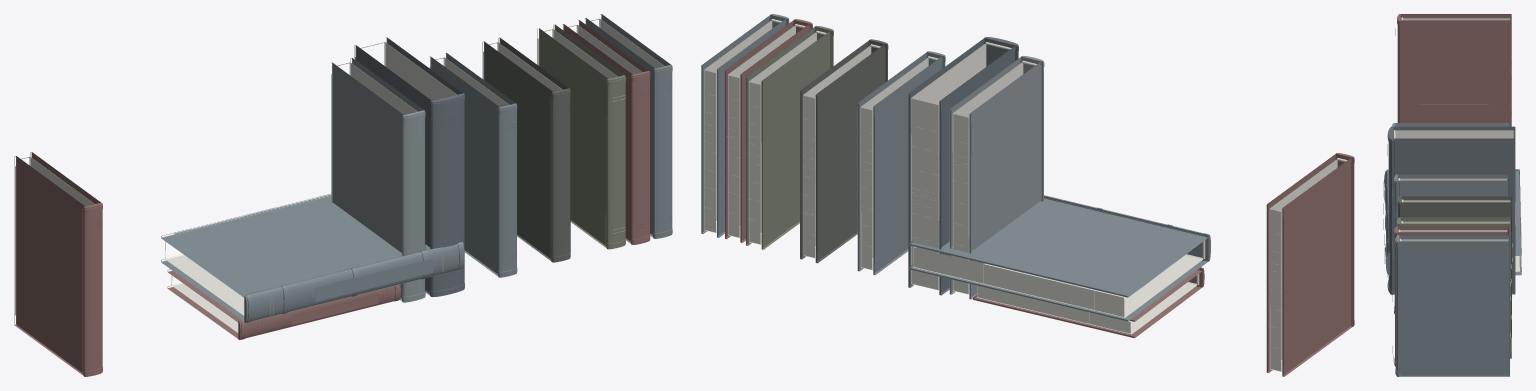
Rendered from X14_LRS1953_BOOKS_S00_bk0.glb.
3 views of the same model, side by side, from view 1: azimuth 30°, elevation 25°; view 2: azimuth 150°, elevation 25°; view 3: azimuth 270°, elevation 25° (orthographic). The views are drawn at different scales.
Parts seen in each view (by area): view 1: S04_LAW_SERIES_A_S04_LAW_SERIES_B05_book_04_cover_-1, S04_LAW_SERIES_A_S04_LAW_SERIES_B03_book_03_cover_-1, S04_LAW_SERIES_A_S04_LAW_SERIES_B07_book_01_cover_-1, S04_LAW_SERIES_A_S04_LAW_SERIES_B14_book_03_cover_-1, S04_LAW_SERIES_A_S04_LAW_SERIES_B12_book_03_cover_-1, S04_LAW_SERIES_A_S04_LAW_SERIES_B10_book_03_cover_-1, S04_LAW_SERIES_A_S04_LAW_SERIES_B05_book_04_spine, S04_LAW_SERIES_A_S04_LAW_SERIES_B08_book_05_spine, S04_LAW_SERIES_A_S04_LAW_SERIES_B07_book_01_spine, S04_LAW_SERIES_A_S04_LAW_SERIES_B16_book_03_spine, S04_LAW_SERIES_A_S04_LAW_SERIES_B12_book_03_spine, S04_LAW_SERIES_A_S04_LAW_SERIES_B14_book_03_spine (+28 smaller); view 2: S04_LAW_SERIES_A_S04_LAW_SERIES_B05_book_04_cover_-1, S04_LAW_SERIES_A_S04_LAW_SERIES_B03_book_03_cover_-1, S04_LAW_SERIES_A_S04_LAW_SERIES_B07_book_01_cover_-1, S04_LAW_SERIES_A_S04_LAW_SERIES_B12_book_03_cover_-1, S04_LAW_SERIES_A_S04_LAW_SERIES_B14_book_03_cover_-1, S04_LAW_SERIES_A_S04_LAW_SERIES_B10_book_03_cover_-1, S04_LAW_SERIES_A_S04_LAW_SERIES_B08_book_05_pages, S04_LAW_SERIES_A_S04_LAW_SERIES_B05_book_04_pages, S04_LAW_SERIES_A_S04_LAW_SERIES_B07_book_01_pages, S04_LAW_SERIES_A_S04_LAW_SERIES_B03_book_03_pages, S04_LAW_SERIES_A_S04_LAW_SERIES_B10_book_03_pages, S04_LAW_SERIES_A_S04_LAW_SERIES_B08_book_05_cover_-1 (+19 smaller); view 3: S04_LAW_SERIES_A_S04_LAW_SERIES_B16_book_03_cover_1, S04_LAW_SERIES_A_S04_LAW_SERIES_B03_book_03_cover_1, S04_LAW_SERIES_A_S04_LAW_SERIES_B08_book_05_cover_1, S04_LAW_SERIES_A_S04_LAW_SERIES_B03_book_03_TITLE_SURFACE_FA, S04_LAW_SERIES_A_S04_LAW_SERIES_B16_book_03_TITLE_SURFACE_FA, S04_LAW_SERIES_A_S04_LAW_SERIES_B10_book_03_cover_1, S04_LAW_SERIES_A_S04_LAW_SERIES_B12_book_03_cover_1, S04_LAW_SERIES_A_S04_LAW_SERIES_B08_book_05_pages, S04_LAW_SERIES_A_S04_LAW_SERIES_B08_book_05_spine, S04_LAW_SERIES_A_S04_LAW_SERIES_B14_book_03_cover_1, S04_LAW_SERIES_A_S04_LAW_SERIES_B08_book_05_cover_-1, S04_LAW_SERIES_A_S04_LAW_SERIES_B14_book_03_cover_-1 (+25 smaller).
Part boxes in pixels (box(x1,y1,x2,y2)): S04_LAW_SERIES_A_S04_LAW_SERIES_B05_book_04_cover_-1: box(161, 194, 430, 297); S04_LAW_SERIES_A_S04_LAW_SERIES_B03_book_03_cover_-1: box(14, 156, 85, 375); S04_LAW_SERIES_A_S04_LAW_SERIES_B07_book_01_cover_-1: box(332, 62, 403, 301); S04_LAW_SERIES_A_S04_LAW_SERIES_B14_book_03_cover_-1: box(537, 28, 608, 247); S04_LAW_SERIES_A_S04_LAW_SERIES_B12_book_03_cover_-1: box(482, 41, 552, 261); S04_LAW_SERIES_A_S04_LAW_SERIES_B10_book_03_cover_-1: box(430, 56, 499, 276); S04_LAW_SERIES_A_S04_LAW_SERIES_B05_book_04_spine: box(244, 242, 464, 322); S04_LAW_SERIES_A_S04_LAW_SERIES_B08_book_05_spine: box(430, 93, 464, 296); S04_LAW_SERIES_A_S04_LAW_SERIES_B07_book_01_spine: box(402, 110, 424, 302); S04_LAW_SERIES_A_S04_LAW_SERIES_B16_book_03_spine: box(653, 64, 672, 238); S04_LAW_SERIES_A_S04_LAW_SERIES_B12_book_03_spine: box(551, 88, 570, 262); S04_LAW_SERIES_A_S04_LAW_SERIES_B14_book_03_spine: box(606, 75, 625, 249); S04_LAW_SERIES_A_S04_LAW_SERIES_B05_book_04_cover_-1: box(909, 198, 1207, 297); S04_LAW_SERIES_A_S04_LAW_SERIES_B03_book_03_cover_-1: box(1282, 158, 1352, 376); S04_LAW_SERIES_A_S04_LAW_SERIES_B07_book_01_cover_-1: box(969, 62, 1040, 299); S04_LAW_SERIES_A_S04_LAW_SERIES_B12_book_03_cover_-1: box(815, 44, 887, 263); S04_LAW_SERIES_A_S04_LAW_SERIES_B14_book_03_cover_-1: box(761, 31, 830, 249); S04_LAW_SERIES_A_S04_LAW_SERIES_B10_book_03_cover_-1: box(873, 56, 942, 275); S04_LAW_SERIES_A_S04_LAW_SERIES_B08_book_05_pages: box(911, 43, 1009, 290); S04_LAW_SERIES_A_S04_LAW_SERIES_B05_book_04_pages: box(913, 241, 1203, 317); S04_LAW_SERIES_A_S04_LAW_SERIES_B07_book_01_pages: box(952, 62, 1034, 294); S04_LAW_SERIES_A_S04_LAW_SERIES_B03_book_03_pages: box(1269, 159, 1345, 371); S04_LAW_SERIES_A_S04_LAW_SERIES_B10_book_03_pages: box(860, 57, 936, 270); S04_LAW_SERIES_A_S04_LAW_SERIES_B08_book_05_cover_-1: box(939, 46, 1015, 295); S04_LAW_SERIES_A_S04_LAW_SERIES_B16_book_03_cover_1: box(1399, 241, 1509, 376); S04_LAW_SERIES_A_S04_LAW_SERIES_B03_book_03_cover_1: box(1400, 20, 1511, 126); S04_LAW_SERIES_A_S04_LAW_SERIES_B08_book_05_cover_1: box(1393, 138, 1515, 294); S04_LAW_SERIES_A_S04_LAW_SERIES_B03_book_03_TITLE_SURFACE_FA: box(1418, 51, 1488, 104); S04_LAW_SERIES_A_S04_LAW_SERIES_B16_book_03_TITLE_SURFACE_FA: box(1417, 272, 1486, 325); S04_LAW_SERIES_A_S04_LAW_SERIES_B10_book_03_cover_1: box(1397, 180, 1508, 196); S04_LAW_SERIES_A_S04_LAW_SERIES_B12_book_03_cover_1: box(1401, 202, 1511, 337); S04_LAW_SERIES_A_S04_LAW_SERIES_B08_book_05_pages: box(1395, 130, 1514, 138); S04_LAW_SERIES_A_S04_LAW_SERIES_B08_book_05_spine: box(1388, 126, 1393, 294); S04_LAW_SERIES_A_S04_LAW_SERIES_B14_book_03_cover_1: box(1400, 223, 1511, 358); S04_LAW_SERIES_A_S04_LAW_SERIES_B08_book_05_cover_-1: box(1393, 126, 1515, 138); S04_LAW_SERIES_A_S04_LAW_SERIES_B14_book_03_cover_-1: box(1400, 217, 1511, 223).
Bounding box in the file's own units: 0.7195 × 0.228 × 0.1841.
